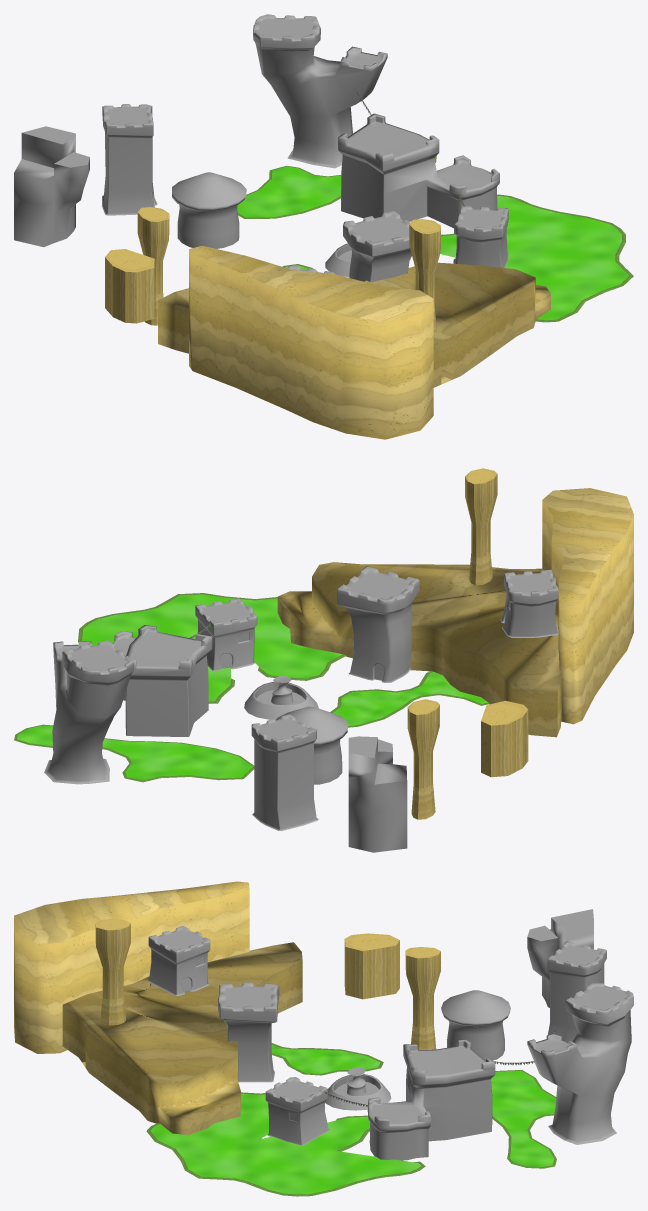
File: town.fbx
3 views of the same model, one above another, from view 1: azimuth 30°, elevation 25°; view 2: azimuth 150°, elevation 25°; view 3: azimuth 270°, elevation 25° (orthographic). The views are drawn at different scales.
Visible parts, largest first — view 1: town:PolyShape2, town:PolyShape1, town:town:pCube157, pCube155, PolyShape_14_, town:PolyShape_11_, pCube156, pCube159, pCube153, PolyShape_15_, town:PolyShape3, pCube154 (+3 smaller); view 2: town:PolyShape1, town:PolyShape2, pCube155, town:town:pCube157, PolyShape_14_, pCube153, pCube156, town:PolyShape_11_, PolyShape_15_, pCube158, pCube154, town:PolyShape3 (+5 smaller); view 3: town:PolyShape1, town:PolyShape2, PolyShape_14_, pCube155, town:town:pCube157, pCube153, PolyShape_15_, pCube158, pCube159, town:PolyShape3, pCube156, pCube154 (+5 smaller).
Boxes of the visible parts, x1,y1,x2,y2 form: town:PolyShape2: [189, 245, 433, 439]; town:PolyShape1: [158, 262, 550, 387]; town:town:pCube157: [338, 113, 499, 228]; pCube155: [253, 14, 387, 168]; PolyShape_14_: [440, 194, 633, 322]; town:PolyShape_11_: [14, 126, 89, 247]; pCube156: [102, 104, 157, 215]; pCube159: [172, 172, 246, 248]; pCube153: [343, 211, 411, 282]; PolyShape_15_: [237, 155, 436, 218]; town:PolyShape3: [105, 249, 154, 323]; pCube154: [453, 206, 508, 267]; town:PolyShape1: [277, 562, 561, 737]; town:PolyShape2: [542, 488, 633, 724]; pCube155: [44, 640, 133, 784]; town:town:pCube157: [112, 625, 212, 736]; PolyShape_14_: [78, 593, 345, 703]; pCube153: [337, 566, 419, 682]; pCube156: [251, 714, 318, 831]; town:PolyShape_11_: [348, 736, 407, 852]; PolyShape_15_: [14, 724, 254, 782]; pCube158: [500, 569, 558, 637]; pCube154: [195, 598, 257, 670]; town:PolyShape3: [481, 700, 528, 777]; town:PolyShape1: [62, 942, 302, 1135]; town:PolyShape2: [14, 881, 249, 1053]; PolyShape_14_: [146, 1092, 425, 1196]; pCube155: [527, 983, 633, 1144]; town:town:pCube157: [367, 1039, 495, 1160]; pCube153: [218, 982, 279, 1082]; PolyShape_15_: [491, 1070, 556, 1168]; pCube158: [147, 926, 210, 995]; pCube159: [441, 990, 510, 1060]; town:PolyShape3: [344, 933, 399, 999]; pCube156: [547, 941, 606, 1042]; pCube154: [265, 1077, 329, 1145].
Size of the model in its own units: 0.8077 by 0.3082 by 0.9778.
